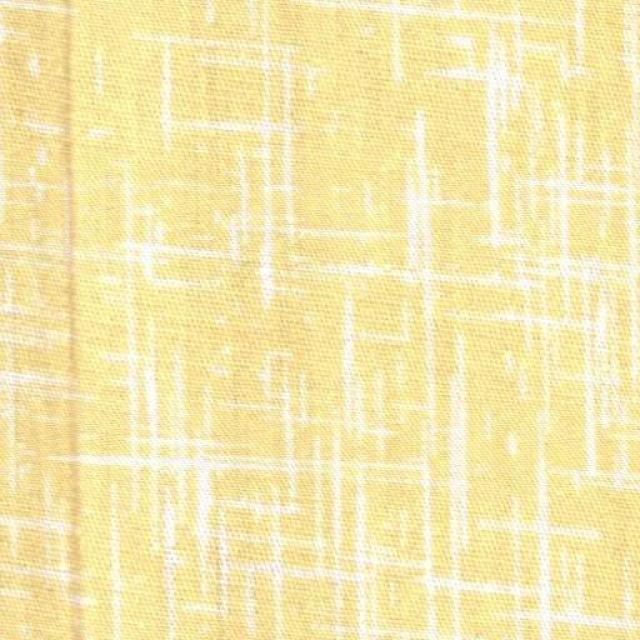broken_yarn: (57, 1, 91, 640)
